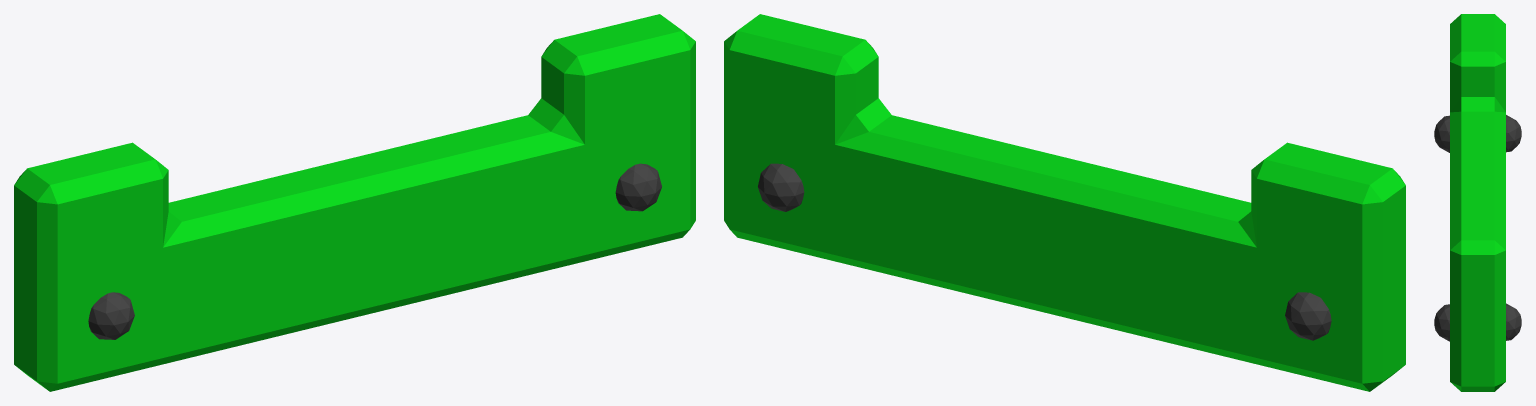
The model's file is BarBracketF.fbx.
The picture shows the model from 3 angles, left to right: view 1: azimuth 30°, elevation 25°; view 2: azimuth 150°, elevation 25°; view 3: azimuth 270°, elevation 25°; orthographic projection. The views are drawn at different scales.
Parts seen in each view (by area): view 1: BarF; view 2: BarF; view 3: BarF.
Boxes of the visible parts, bbox=[...] form: BarF: bbox=[14, 14, 695, 391]; BarF: bbox=[724, 14, 1405, 391]; BarF: bbox=[1434, 14, 1521, 391].
Size of the model in its own units: 1000 by 300 by 157.
